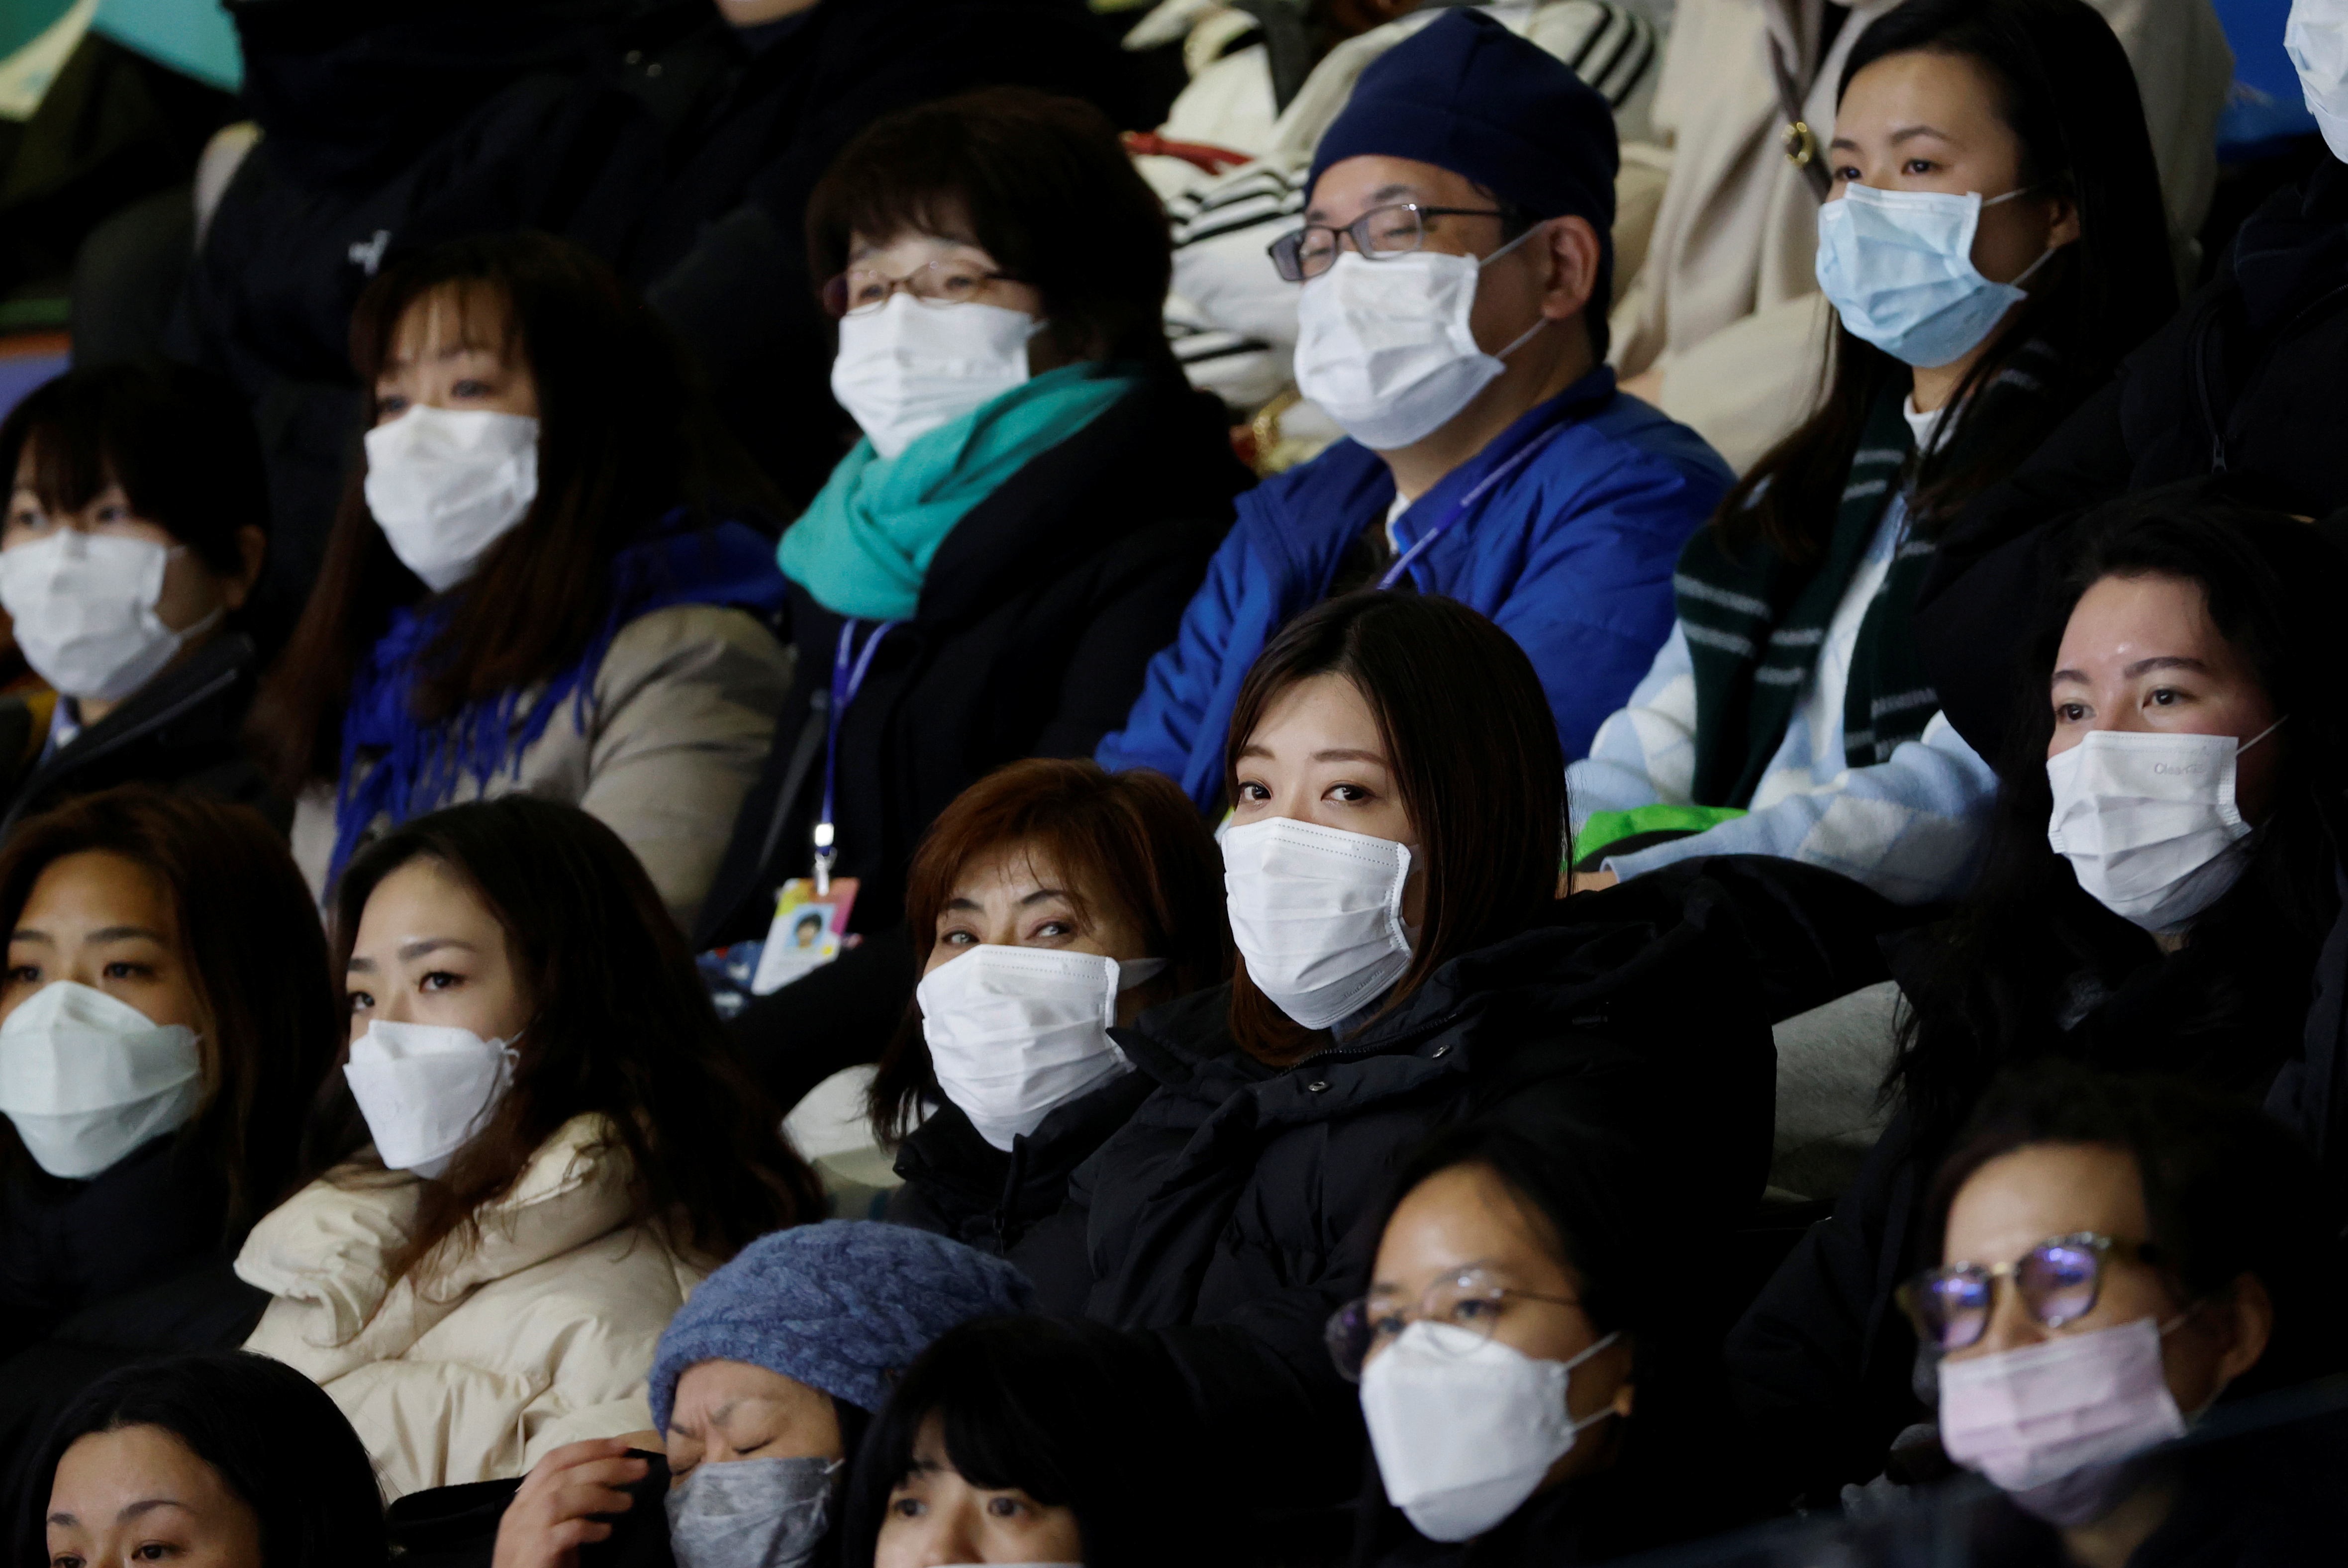with_mask: (1898, 1208, 2286, 1522), (1319, 1256, 1626, 1545), (1274, 187, 1604, 437), (894, 880, 1173, 1145), (1208, 726, 1440, 1031), (2034, 648, 2279, 935), (1820, 119, 2085, 361), (2, 447, 258, 691), (332, 936, 581, 1180), (5, 886, 208, 1172), (347, 333, 576, 582), (816, 228, 1057, 452), (642, 1390, 865, 1568)
